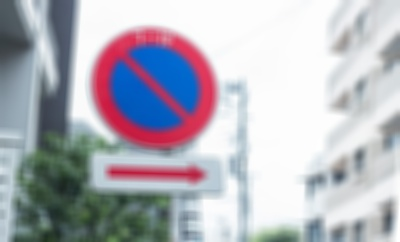Prohibition_sign: (80, 19, 220, 147)
